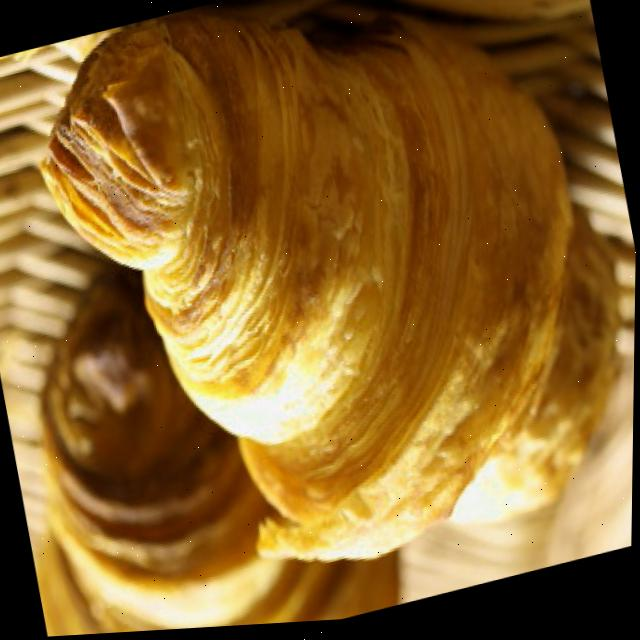面包点心: (14, 0, 640, 639)
